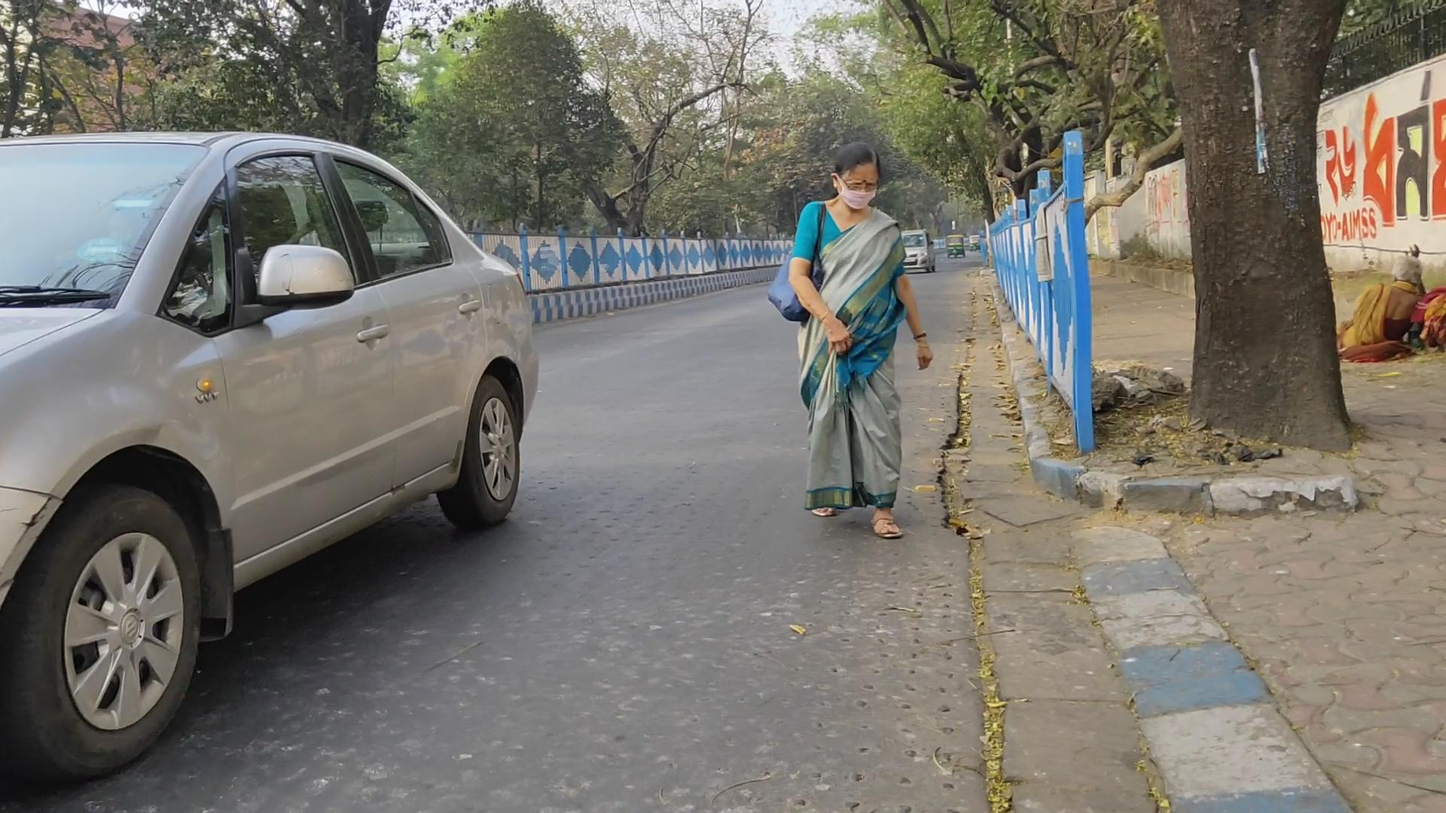Auto: (944, 233, 966, 257)
car: (4, 132, 539, 781), (898, 229, 936, 273)
